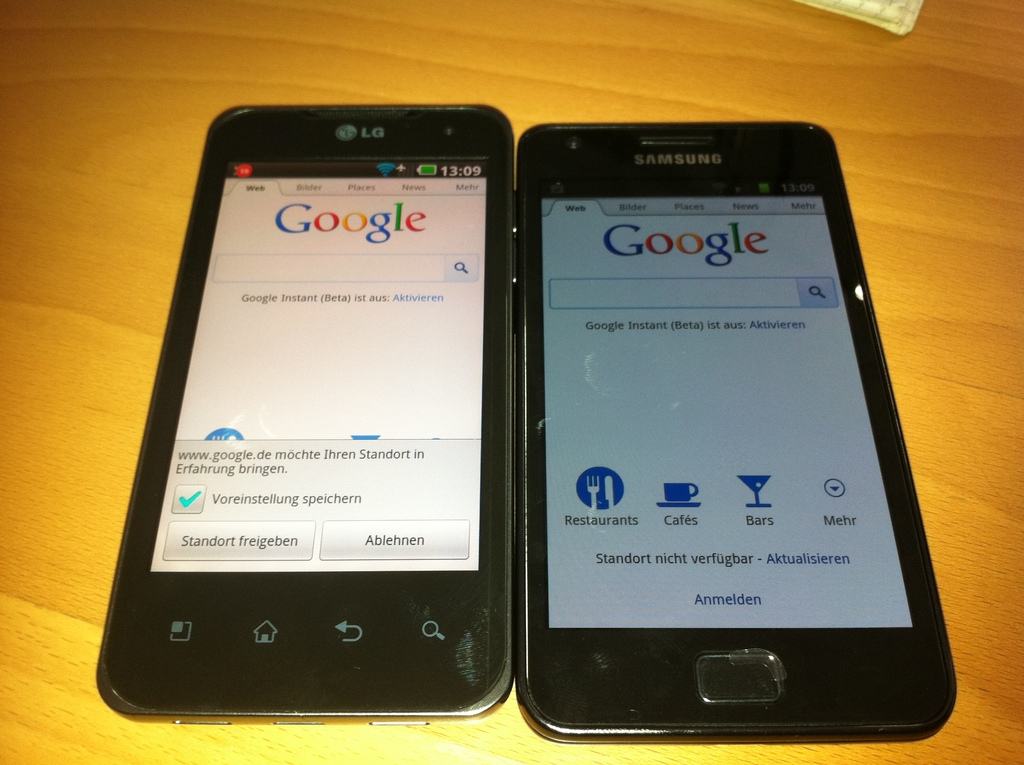mobile phone: (514, 115, 961, 739), (87, 97, 517, 720)
